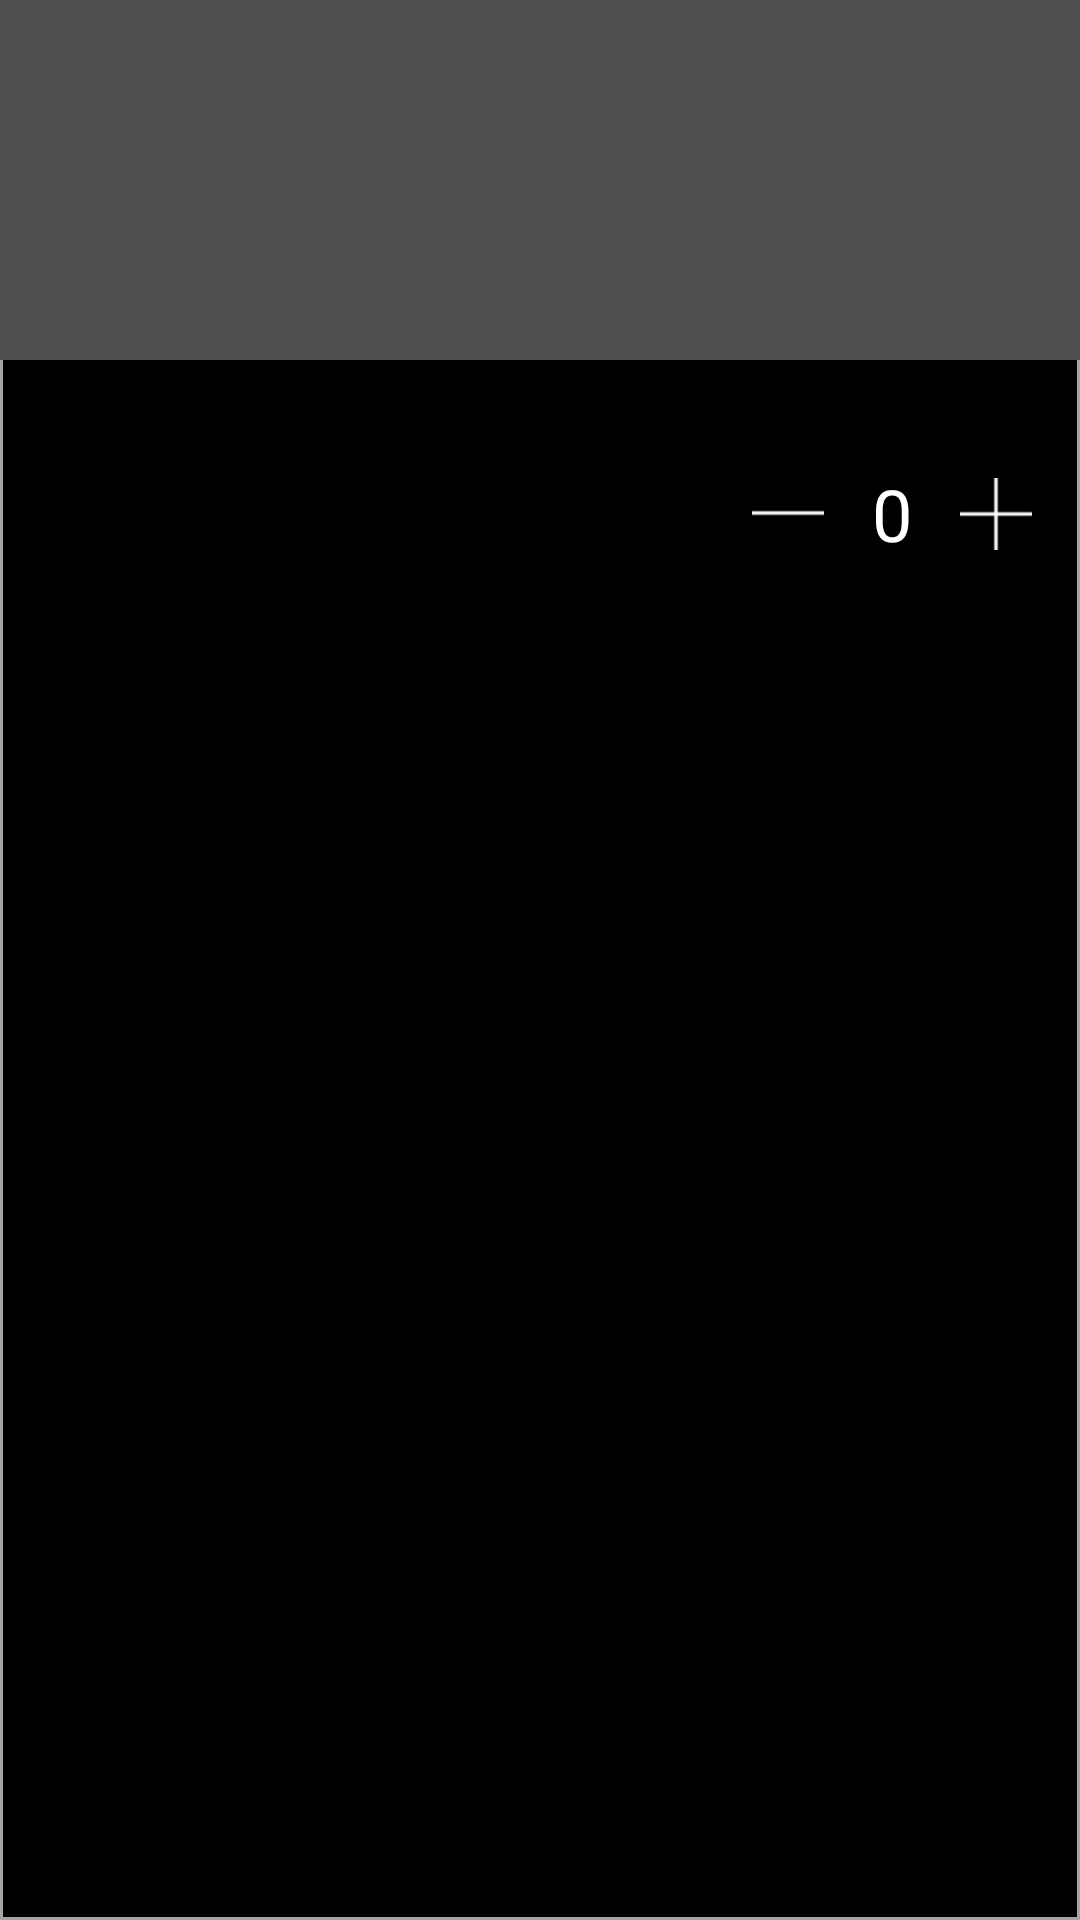

Point at icon controls on the screen. Image size 1080px×1920px, points as (x=x, y=y).
add: (x=996, y=514)
